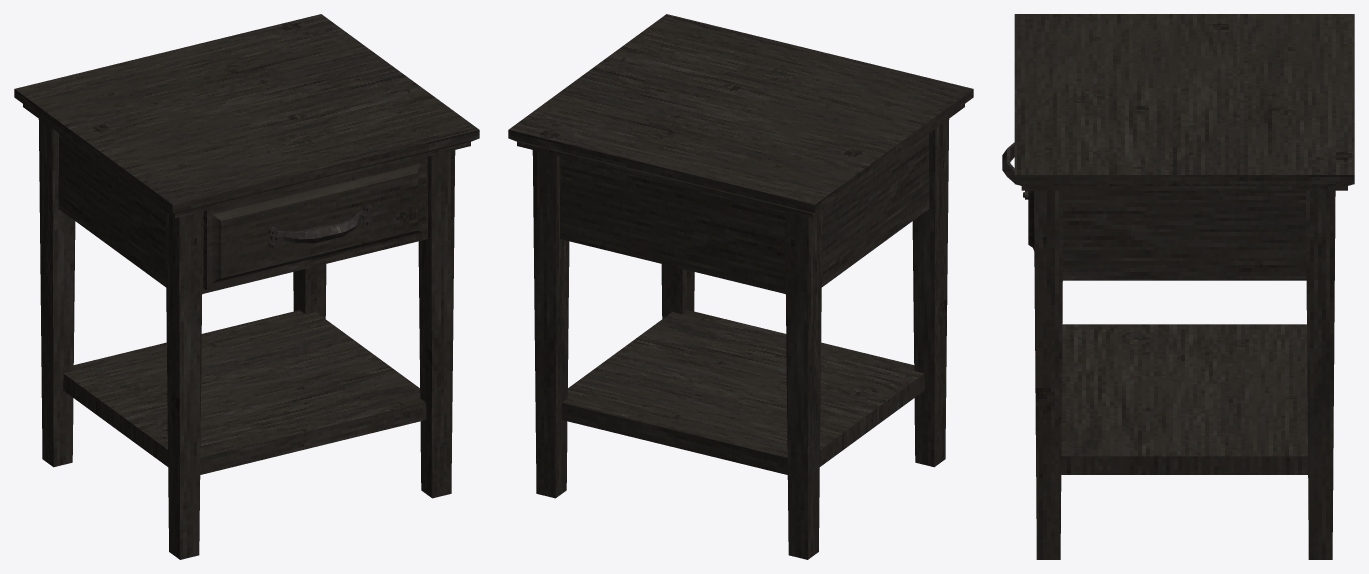
Rendered from bedside_table_1.glb.
3 renders of one model, left to right at view 1: azimuth 30°, elevation 25°; view 2: azimuth 150°, elevation 25°; view 3: azimuth 270°, elevation 25°, orthographic. The views are drawn at different scales.
Visible parts, largest first — view 1: bedside_table_1, bedside_table_1_drawer; view 2: bedside_table_1; view 3: bedside_table_1, bedside_table_1_drawer.
Boxes of the visible parts, left/top/right/bottom form: bedside_table_1: left=14, top=14, right=479, bottom=559; bedside_table_1_drawer: left=203, top=157, right=426, bottom=290; bedside_table_1: left=508, top=14, right=973, bottom=559; bedside_table_1: left=1014, top=14, right=1354, bottom=559; bedside_table_1_drawer: left=1002, top=142, right=1034, bottom=250.
Size of the model in its own units: 0.56 by 0.64 by 0.5183.
2 materials, 2 textured.
